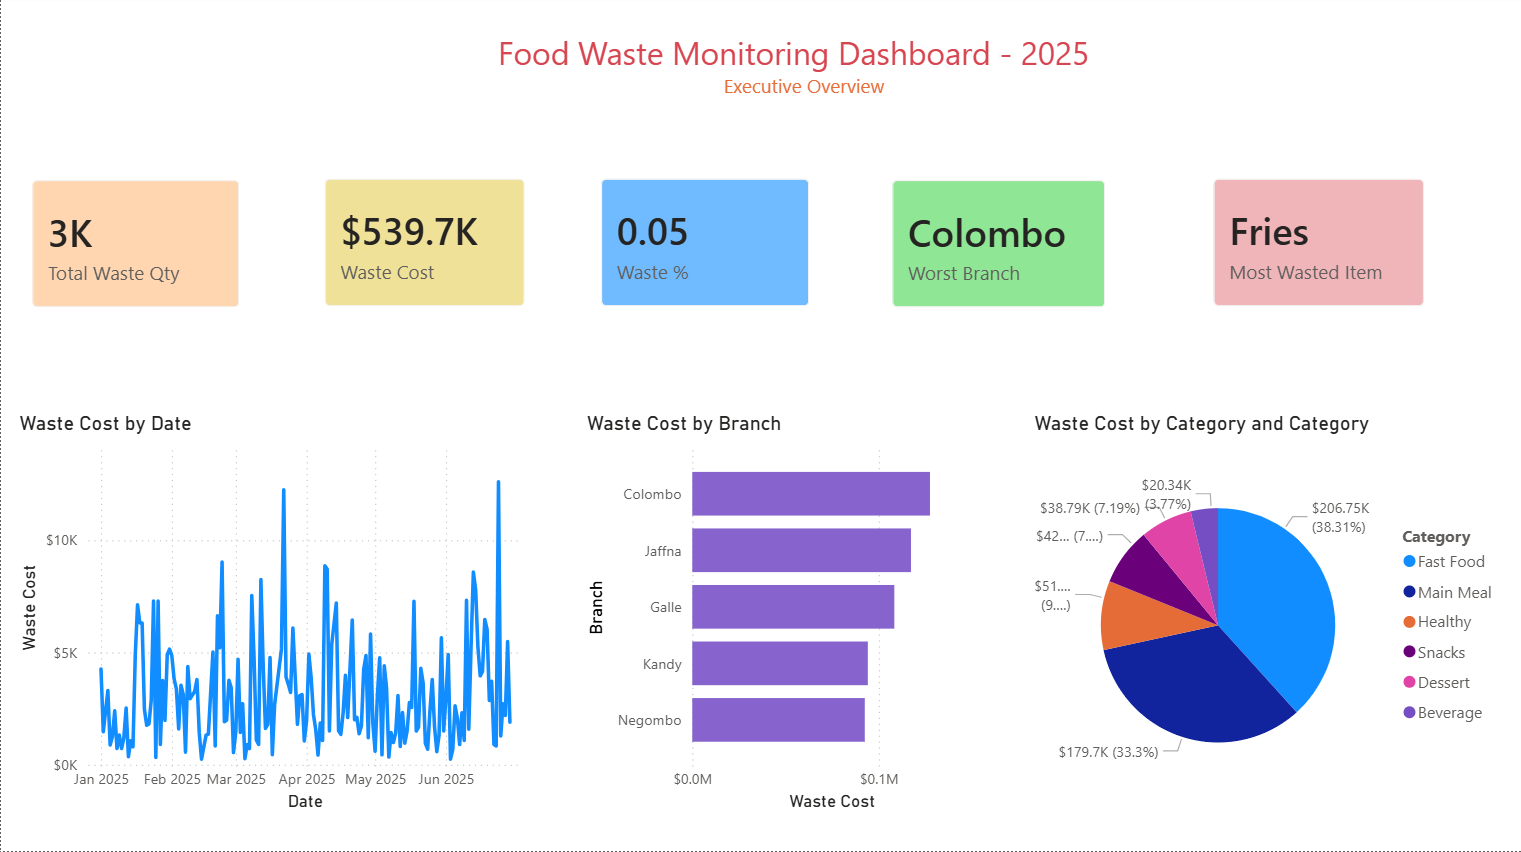

The page's visual inventory and layout, read from the dashboard file:
{"tool":"powerbi","page":{"name":"Page 1","canvas":[1280,720],"ordinal":0},"visuals":[{"type":"cardVisual","fields":{"Data":["MeasureTable.Total Waste Qty"]},"box":[9.7,139.1,208.1,141],"z":0},{"type":"cardVisual","fields":{"Data":["MeasureTable.Waste Cost"]},"box":[255.4,138,202.2,141.3],"z":1000},{"type":"cardVisual","fields":{"Data":["MeasureTable.Waste %"]},"box":[488,138,209.8,141.3],"z":2000},{"type":"cardVisual","fields":{"Data":["MeasureTable.Worst Branch"]},"box":[732.6,139.1,213,141.3],"z":3000},{"type":"cardVisual","fields":{"Data":["MeasureTable.Most Wasted Item"]},"box":[1003.3,138,212,141.3],"z":4000},{"type":"lineChart","fields":{"Y":["MeasureTable.Waste Cost"],"Category":["WasteData.Date"]},"box":[10.9,350,446.7,341.3],"z":5000},{"type":"clusteredBarChart","fields":{"Category":["WasteData.Branch"],"Y":["MeasureTable.Waste Cost"]},"box":[488,350,351.1,341.3],"z":6000},{"type":"textbox","box":[293.3,25,746.7,113.3],"z":7000},{"type":"pieChart","fields":{"Y":["MeasureTable.Waste Cost"],"Category":["WasteData.Category"],"Series":["WasteData.Category"]},"box":[864.1,350,404.3,341.3],"z":8000}]}

Visuals, with their boxes in screenshot pixels (x1, y1, x2, y2), scaled from the page's 1280x720 canvas onto the 1521x852 screenshot:
cardVisual - MeasureTable.Total Waste Qty: bbox(12, 165, 259, 331)
cardVisual - MeasureTable.Waste Cost: bbox(303, 163, 544, 331)
cardVisual - MeasureTable.Waste %: bbox(580, 163, 829, 331)
cardVisual - MeasureTable.Worst Branch: bbox(871, 165, 1124, 332)
cardVisual - MeasureTable.Most Wasted Item: bbox(1192, 163, 1444, 331)
lineChart - MeasureTable.Waste Cost x WasteData.Date: bbox(13, 414, 544, 818)
clusteredBarChart - WasteData.Branch x MeasureTable.Waste Cost: bbox(580, 414, 997, 818)
textbox: bbox(349, 30, 1236, 164)
pieChart - MeasureTable.Waste Cost x WasteData.Category: bbox(1027, 414, 1507, 818)
